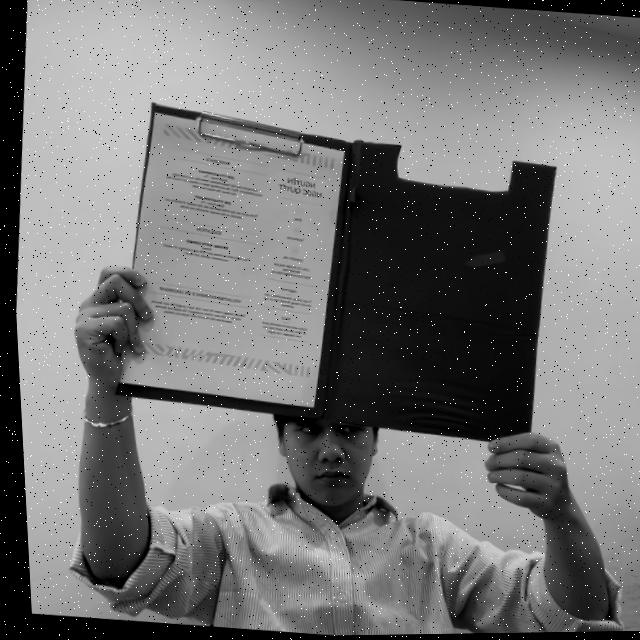document: (117, 113, 344, 408)
face: (284, 416, 381, 514)
